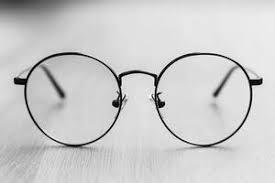spectacles: (9, 57, 264, 153)
